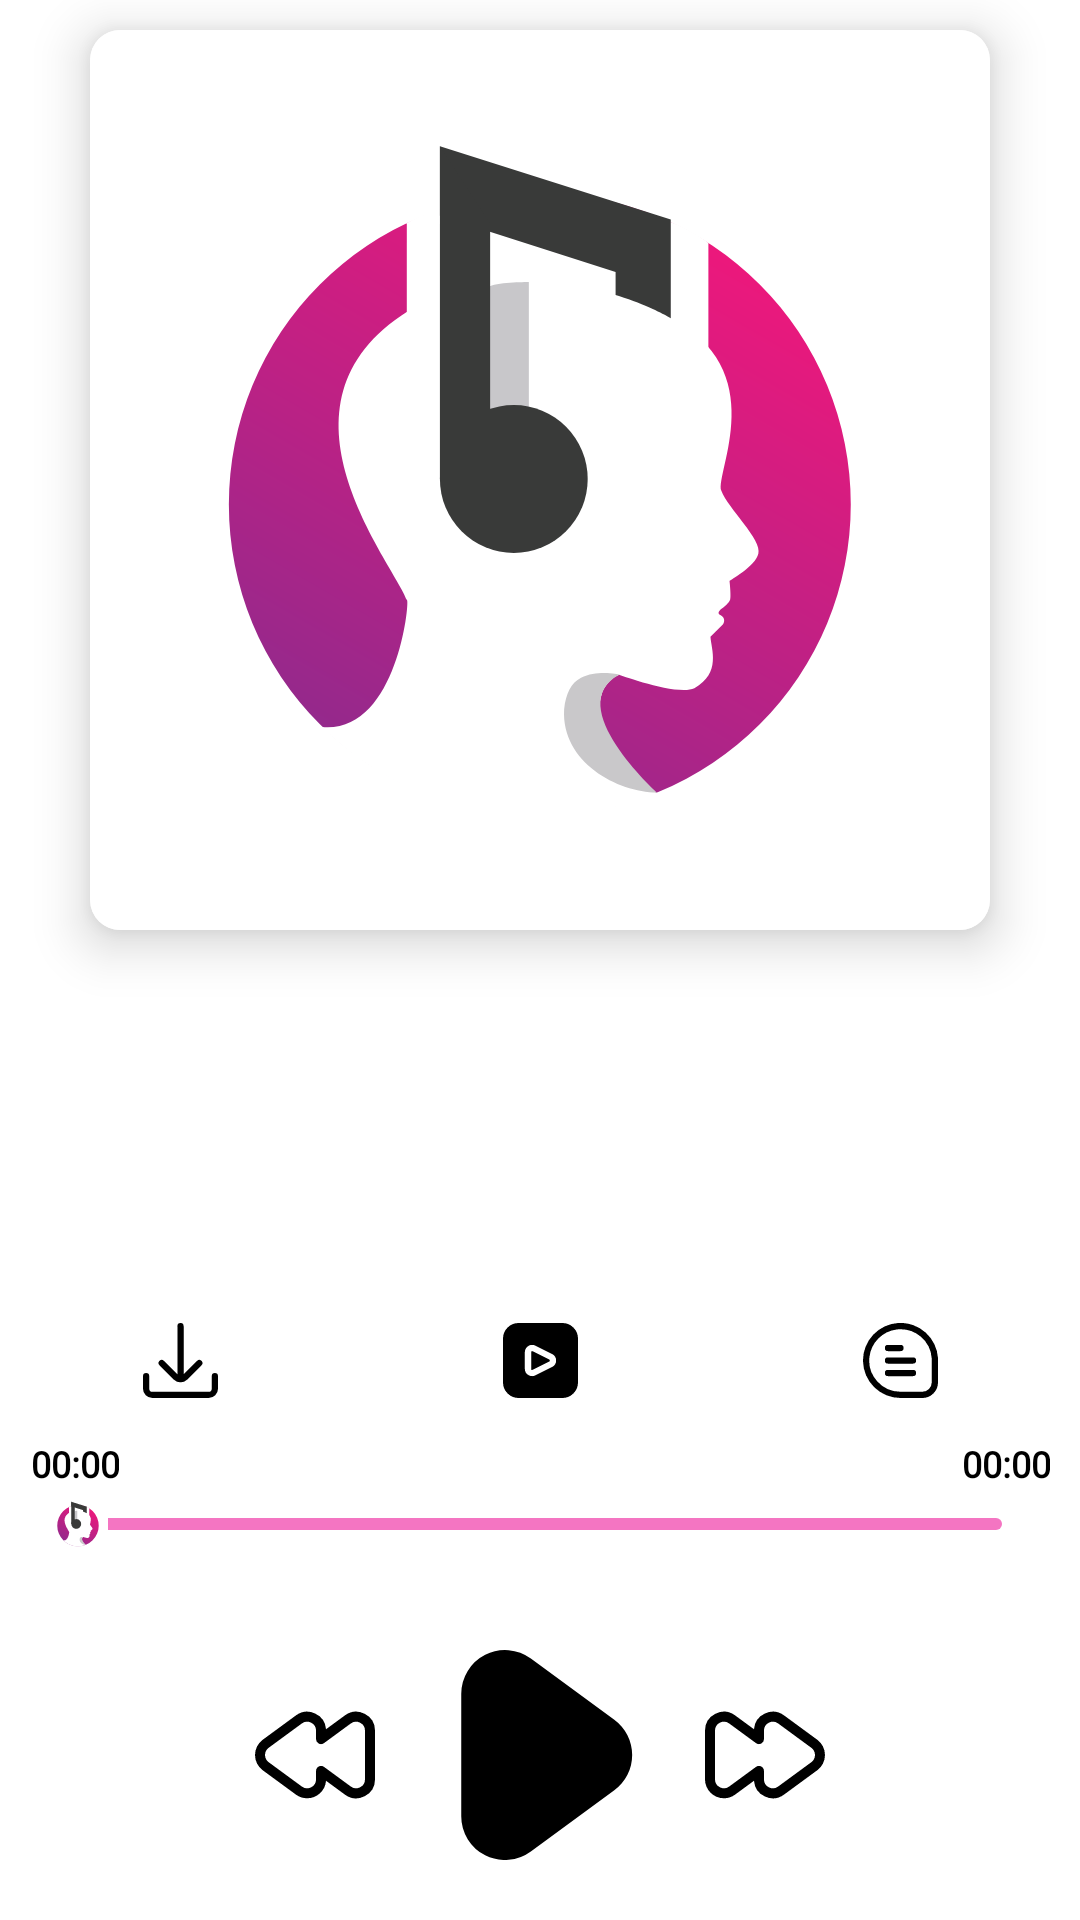

Point at icon controls on the screen. Image size 1080px x 1920px, points as point (x, y).
comment: point (900, 1360)
download: point (180, 1360)
next: point (765, 1755)
play: point (540, 1360), point (547, 1755)
prev: point (315, 1755)
